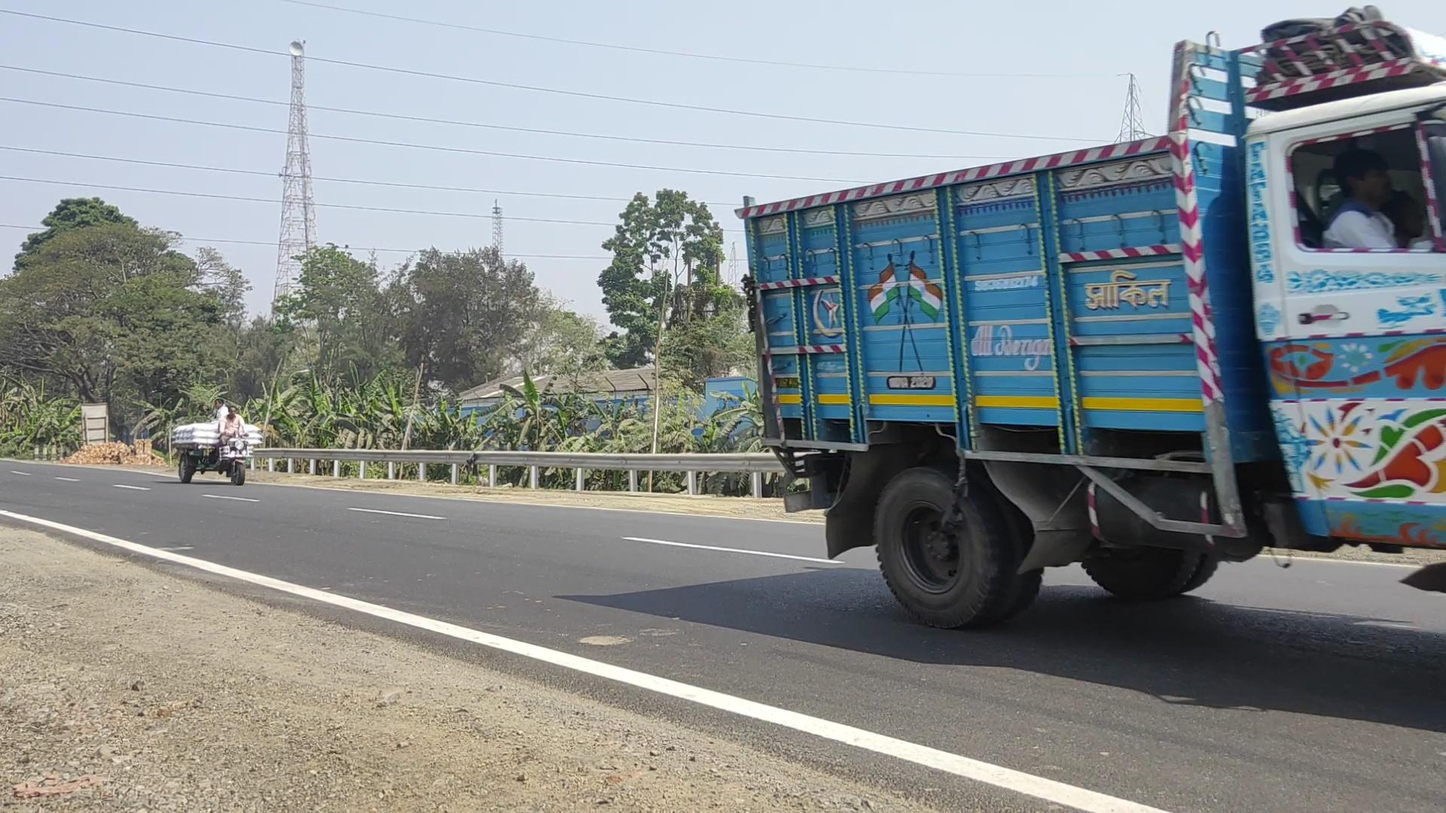truck: (734, 9, 1446, 632)
